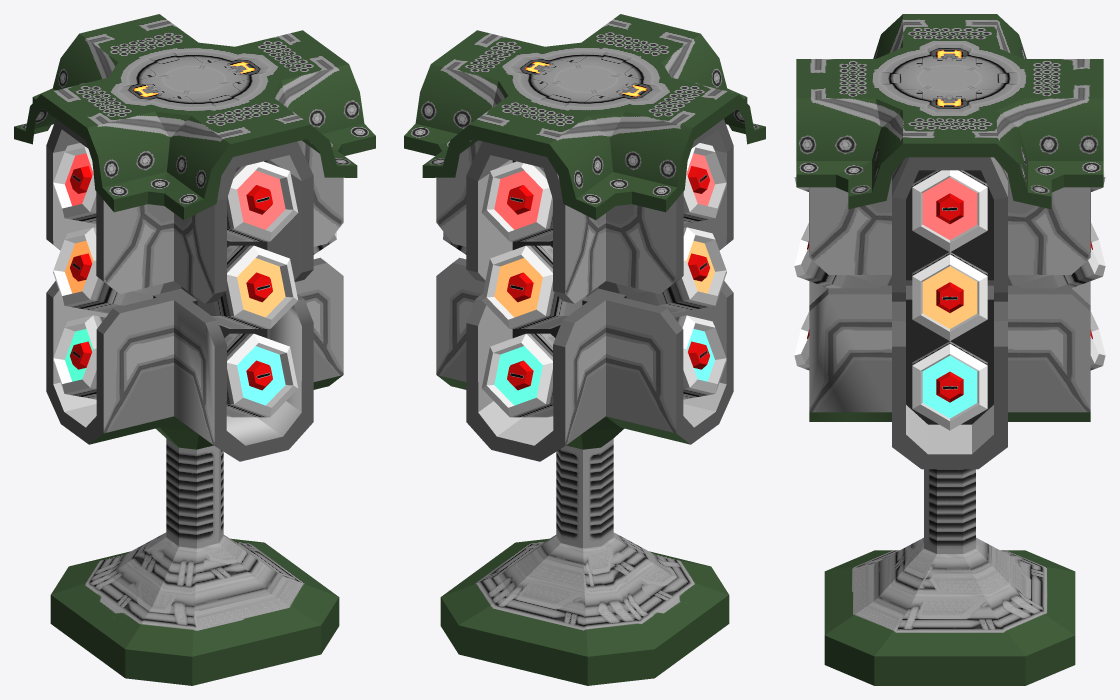
File: road_center.glb
3 views of the same model, side by side, from view 1: azimuth 30°, elevation 25°; view 2: azimuth 150°, elevation 25°; view 3: azimuth 270°, elevation 25° (orthographic).
Visible parts, largest first — view 1: Plane.002; view 2: Plane.002; view 3: Plane.002.
Part boxes in pixels (x1,y1,x2,y2): Plane.002: (14, 14, 375, 685); Plane.002: (404, 14, 765, 685); Plane.002: (794, 14, 1105, 685).
Size of the model in its own units: 12.16 by 23.9 by 12.16.
1 material, 1 textured.
